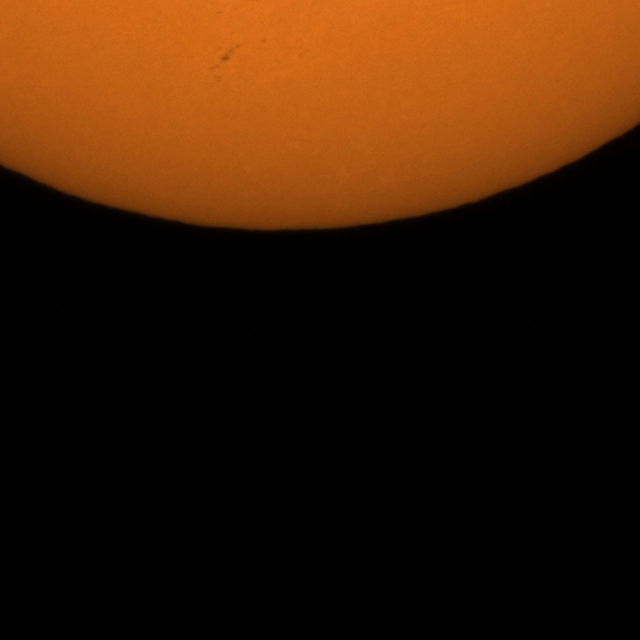sunspot: (215, 43, 241, 67)
